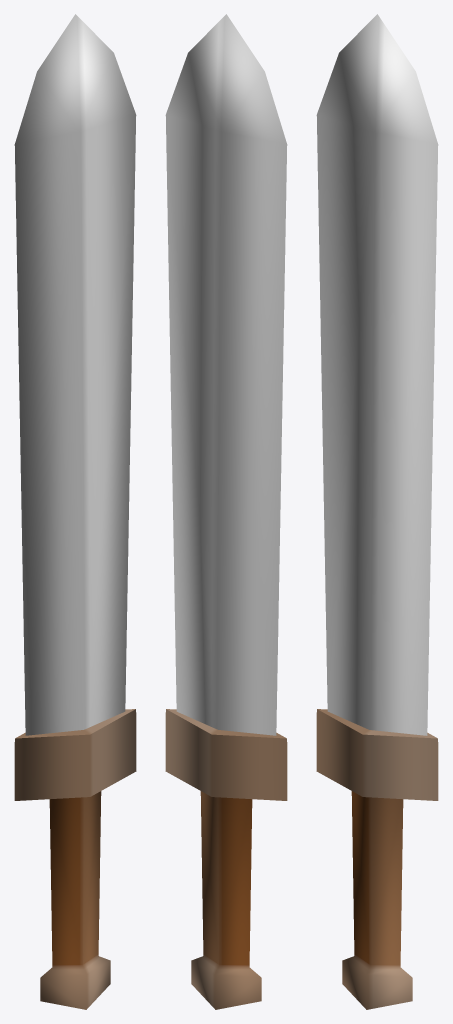
File: ch_sword_01.FBX
3 views of the same model, side by side, from view 1: azimuth 30°, elevation 25°; view 2: azimuth 150°, elevation 25°; view 3: azimuth 330°, elevation 25° (orthographic).
Parts seen in each view (by area): view 1: sword; view 2: sword; view 3: sword.
Part boxes in pixels (bbox=[...]): sword: bbox=[14, 14, 136, 1009]; sword: bbox=[165, 14, 287, 1009]; sword: bbox=[316, 14, 438, 1009].
Bounding box in the file's own units: 3.47 × 26.85 × 1.46.
Materials: 1 (1 with a texture image).
